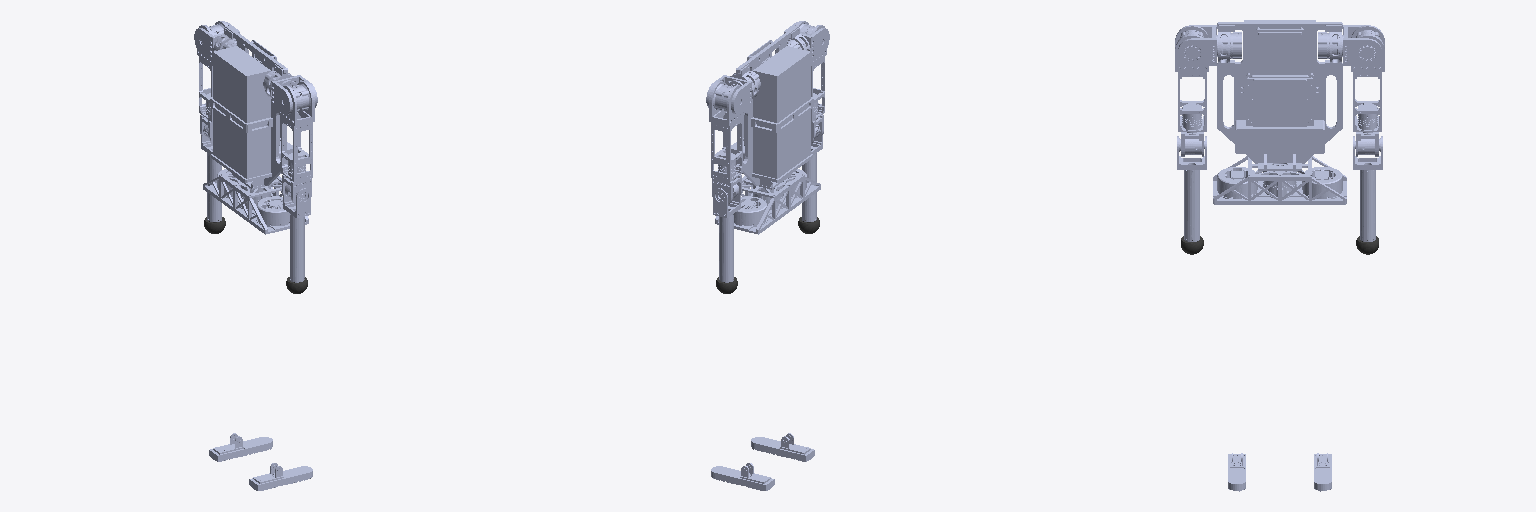
--- Render facts (derived) ---
The picture shows the robot from 3 angles, left to right: view 1: azimuth 30°, elevation 25°; view 2: azimuth 150°, elevation 25°; view 3: azimuth 270°, elevation 25°; orthographic projection.
Model wholebody_4_dof_arm with 22 links and 21 joints (19 revolute, 2 fixed), rooted at Pelvis, posed all joints at 0.
Visible links, largest first — view 1: Torso, Pelvis, R_shoulder_roll, R_elbow, L_toe, R_toe, L_shoulder_roll, L_elbow, R_shoulder_pitch, L_shoulder_pitch; view 2: Torso, Pelvis, L_shoulder_roll, L_elbow, R_toe, L_toe, R_shoulder_roll, R_elbow, L_shoulder_pitch, R_shoulder_pitch; view 3: Torso, Pelvis, L_shoulder_roll, R_shoulder_roll, L_elbow, R_elbow, L_shoulder_pitch, R_shoulder_pitch, L_toe, R_toe, L_shoulder_yaw, R_shoulder_yaw.
Link boxes in pixels (left/top/right/bottom): Torso: left=210, top=26, right=293, bottom=189; Pelvis: left=203, top=169, right=308, bottom=234; R_shoulder_roll: left=279, top=81, right=314, bottom=181; R_elbow: left=283, top=188, right=310, bottom=282; L_toe: left=209, top=433, right=272, bottom=461; R_toe: left=249, top=463, right=312, bottom=490; L_shoulder_roll: left=197, top=21, right=227, bottom=121; L_elbow: left=201, top=135, right=221, bottom=221; R_shoulder_pitch: left=272, top=75, right=317, bottom=114; L_shoulder_pitch: left=194, top=22, right=239, bottom=61; Torso: left=730, top=26, right=813, bottom=189; Pelvis: left=715, top=169, right=820, bottom=234; L_shoulder_roll: left=709, top=81, right=744, bottom=181; L_elbow: left=713, top=188, right=740, bottom=282; R_toe: left=751, top=433, right=814, bottom=461; L_toe: left=711, top=463, right=774, bottom=490; R_shoulder_roll: left=796, top=21, right=826, bottom=121; R_elbow: left=802, top=135, right=822, bottom=221; L_shoulder_pitch: left=706, top=75, right=751, bottom=114; R_shoulder_pitch: left=784, top=22, right=829, bottom=61; Torso: left=1217, top=20, right=1342, bottom=170; Pelvis: left=1213, top=156, right=1346, bottom=204; L_shoulder_roll: left=1351, top=25, right=1384, bottom=131; R_shoulder_roll: left=1175, top=25, right=1208, bottom=131; L_elbow: left=1353, top=136, right=1382, bottom=241; R_elbow: left=1177, top=136, right=1206, bottom=241; L_shoulder_pitch: left=1342, top=25, right=1381, bottom=65; R_shoulder_pitch: left=1178, top=25, right=1217, bottom=65; L_toe: left=1314, top=453, right=1331, bottom=491; R_toe: left=1228, top=453, right=1245, bottom=491; L_shoulder_yaw: left=1355, top=132, right=1378, bottom=156; R_shoulder_yaw: left=1181, top=132, right=1204, bottom=156.
Size in the robot's own frame: 0.2187 by 0.582 by 1.38 metres.
14 mesh visuals loaded from 22 distinct referenced files (14 binary STL); not drawn: 8 (reference not matched to a file when rendering).

robot.urdf — wholebody_4_dof_arm:
<?xml version="1.0" encoding="utf-8"?>
<!-- This URDF was automatically created by SolidWorks to URDF Exporter! Originally created by Stephen Brawner ([email redacted]) 
     Commit Version: 1.6.0-4-g7f85cfe  Build Version: 1.6.7995.38578
     For more information, please see http://wiki.ros.org/sw_urdf_exporter -->
<robot
  name="wholebody_4_dof_arm">
  <link
    name="Pelvis">
    <inertial>
      <origin
        xyz="4.9E-05 6.9E-05 0.031218"
        rpy="0 0 0" />
      <mass
        value="5.326433" />
      <inertia
        ixx="0.052762"
        ixy="3.7E-05"
        ixz="-8E-06"
        iyy="0.010733"
        iyz="-5E-06"
        izz="0.057077" />
    </inertial>
    <visual>
      <origin
        xyz="0 0 0"
        rpy="0 0 0" />
      <geometry>
        <mesh
          filename="meshes/Pelvis.STL" />
      </geometry>
      <material
        name="">
        <color
          rgba="0.792156862745098 0.819607843137255 0.933333333333333 1" />
      </material>
    </visual>
    <!-- <collision>
      <origin
        xyz="0 0 0"
        rpy="0 0 0" />
      <geometry>
        <mesh
          filename="meshes/Pelvis.STL" />
      </geometry>
    </collision> -->
  </link>
  <link
    name="Torso">
    <inertial>
      <origin
        xyz="-0.015965 0 0.229198"
        rpy="0 0 0" />
      <mass
        value="21.311275" />
      <inertia
        ixx="0.411035"
        ixy="0"
        ixz="0.004879"
        iyy="0.320901"
        iyz="-2E-06"
        izz="0.157956" />
    </inertial>
    <visual>
      <origin
        xyz="0 0 0"
        rpy="0 0 0" />
      <geometry>
        <mesh
          filename="meshes/Torso.STL" />
      </geometry>
      <material
        name="">
        <color
          rgba="0.792156862745098 0.819607843137255 0.933333333333333 1" />
      </material>
    </visual>
    <collision>
      <origin
        xyz="0 0 0.22"
        rpy="0 0 0" />
      <geometry>
        <box size="0.17 0.2 0.42" />
      </geometry>
    </collision>
  </link>
  <joint
    name="Waist_joint"
    type="revolute">
    <origin
      xyz="0 0 0.0825"
      rpy="0 0 0" />
    <parent
      link="Pelvis" />
    <child
      link="Torso" />
    <axis
      xyz="0 0 -1" />
    <limit
      lower="-0.87"
      upper="0.87"
      effort="100"
      velocity="13" />
  </joint>
  <link
    name="L_shoulder_pitch">
    <inertial>
      <origin
        xyz="0.002629 0.044079 0"
        rpy="0 0 0" />
      <mass
        value="0.450636" />
      <inertia
        ixx="0.000741"
        ixy="-5.2E-05"
        ixz="0"
        iyy="0.000897"
        iyz="0"
        izz="0.00118" />
    </inertial>
    <visual>
      <origin
        xyz="0 0 0"
        rpy="0 0 0" />
      <geometry>
        <mesh
          filename="meshes/L_shoulder_pitch.STL" />
      </geometry>
      <material
        name="">
        <color
          rgba="0.792156862745098 0.819607843137255 0.933333333333333 1" />
      </material>
    </visual>
    <!-- <collision>
      <origin
        xyz="0 0 0"
        rpy="0 0 0" />
      <geometry>
        <mesh
          filename="meshes/L_shoulder_pitch.STL" />
      </geometry>
    </collision> -->
  </link>
  <joint
    name="L_shoulder_pitch_joint"
    type="revolute">
    <origin
      xyz="0 0.172 0.3695"
      rpy="0 0 0" />
    <parent
      link="Torso" />
    <child
      link="L_shoulder_pitch" />
    <axis
      xyz="0 1 0" />
    <limit
      lower="-3.14"
      upper="1.05"
      effort="55"
      velocity="16" />
  </joint>
  <link
    name="L_shoulder_roll">
    <inertial>
      <origin
        xyz="0.001469 -7E-05 -0.079989"
        rpy="0 0 0" />
      <mass
        value="2.002576" />
      <inertia
        ixx="0.020339"
        ixy="4E-06"
        ixz="-0.000225"
        iyy="0.020072"
        iyz="-4.8E-05"
        izz="0.002315" />
    </inertial>
    <visual>
      <origin
        xyz="0 0 0"
        rpy="0 0 0" />
      <geometry>
        <mesh
          filename="meshes/L_shoulder_roll.STL" />
      </geometry>
      <material
        name="">
        <color
          rgba="0.792156862745098 0.819607843137255 0.933333333333333 1" />
      </material>
    </visual>
    <!-- <collision>
      <origin
        xyz="0 0 0"
        rpy="0 0 0" />
      <geometry>
        <mesh
          filename="meshes/L_shoulder_roll.STL" />
      </geometry>
    </collision> -->
  </link>
  <joint
    name="L_shoulder_roll_joint"
    type="revolute">
    <origin
      xyz="0 0.072 0"
      rpy="0 0 0" />
    <parent
      link="L_shoulder_pitch" />
    <child
      link="L_shoulder_roll" />
    <axis
      xyz="1 0 0" />
    <limit
      lower="-0.087"
      upper="2.62"
      effort="55"
      velocity="16" />
  </joint>
  <link
    name="L_shoulder_yaw">
    <inertial>
      <origin
        xyz="4.8E-05 0.00162 -0.045384"
        rpy="0 0 0" />
      <mass
        value="0.608514" />
      <inertia
        ixx="0.000608"
        ixy="0"
        ixz="0"
        iyy="0.00049"
        iyz="2E-06"
        izz="0.000483" />
    </inertial>
    <visual>
      <origin
        xyz="0 0 0"
        rpy="0 0 0" />
      <geometry>
        <mesh
          filename="meshes/L_shoulder_yaw.STL" />
      </geometry>
      <material
        name="">
        <color
          rgba="0.792156862745098 0.819607843137255 0.933333333333333 1" />
      </material>
    </visual>
    <!-- <collision>
      <origin
        xyz="0 0 0"
        rpy="0 0 0" />
      <geometry>
        <mesh
          filename="meshes/L_shoulder_yaw.STL" />
      </geometry>
    </collision> -->
  </link>
  <joint
    name="L_shoulder_yaw_joint"
    type="revolute">
    <origin
      xyz="0 0 -0.250499999999996"
      rpy="0 0 0" />
    <parent
      link="L_shoulder_roll" />
    <child
      link="L_shoulder_yaw" />
    <axis
      xyz="0 0 -1" />
    <limit
      lower="-1.57"
      upper="1.57"
      effort="30"
      velocity="8.5" />
  </joint>
  <link
    name="L_elbow">
    <inertial>
      <origin
        xyz="0 -5.2E-05 -0.075944"
        rpy="0 0 0" />
      <mass
        value="0.297153" />
      <inertia
        ixx="0.001705"
        ixy="0"
        ixz="0"
        iyy="0.001534"
        iyz="1E-06"
        izz="0.000304" />
    </inertial>
    <visual>
      <origin
        xyz="0 0 0"
        rpy="0 0 0" />
      <geometry>
        <mesh
          filename="meshes/L_elbow.STL" />
      </geometry>
      <material
        name="">
        <color
          rgba="0.792156862745098 0.819607843137255 0.933333333333333 1" />
      </material>
    </visual>
    <collision>
      <origin
        xyz="0 0 -0.14"
        rpy="0 0 0" />
      <geometry>
        <cylinder radius="0.03" length="0.25" />
      </geometry>
    </collision>

    <collision>
      <origin
        xyz="0 0 -0.3"
        rpy="0 0 0" />
      <geometry>
        <sphere radius="0.03" />
      </geometry>
    </collision>

  </link>
  <joint
    name="L_elbow_joint"
    type="revolute">
    <origin
      xyz="0 0 -0.0545"
      rpy="0 0 0" />
    <parent
      link="L_shoulder_yaw" />
    <child
      link="L_elbow" />
    <axis
      xyz="0 1 0" />
    <limit
      lower="-1.9"
      upper="1.05"
      effort="30"
      velocity="8.5" />
  </joint>
  <link
    name="L_EE">
    <inertial>
      <origin
        xyz="0 0 -0.003514"
        rpy="0 0 0" />
      <mass
        value="0.15" />
      <inertia
        ixx="5.5E-05"
        ixy="0"
        ixz="0"
        iyy="5.5E-05"
        iyz="0"
        izz="6.4E-05" />
    </inertial>
    <visual>
      <origin
        xyz="0 0 0"
        rpy="0 0 0" />
      <geometry>
        <mesh
          filename="meshes/L_EE.STL" />
      </geometry>
      <material
        name="">
        <color
          rgba="0.298039215686275 0.298039215686275 0.298039215686275 1" />
      </material>
    </visual>
    <collision>
      <origin
        xyz="0 0 0"
        rpy="0 0 0" />
      <geometry>
        <sphere radius="0.03" />
      </geometry>
    </collision>
  </link>
  <joint
    name="L_EE_joint"
    type="fixed">
    <origin
      xyz="0 0 -0.3"
      rpy="0 0 0" />
    <parent
      link="L_elbow" />
    <child
      link="L_EE" />
    <axis
      xyz="0 0 0" />
    <limit
      lower="-1.57"
      upper="1.57"
      effort="30"
      velocity="8.5" />
  </joint>
  <link
    name="R_shoulder_pitch">
    <inertial>
      <origin
        xyz="0.002629 -0.044079 0"
        rpy="0 0 0" />
      <mass
        value="0.450636" />
      <inertia
        ixx="0.000741"
        ixy="5.2E-05"
        ixz="0"
        iyy="0.000897"
        iyz="0"
        izz="0.00118" />
    </inertial>
    <visual>
      <origin
        xyz="0 0 0"
        rpy="0 0 0" />
      <geometry>
        <mesh
          filename="meshes/R_shoulder_pitch.STL" />
      </geometry>
      <material
        name="">
        <color
          rgba="0.792156862745098 0.819607843137255 0.933333333333333 1" />
      </material>
    </visual>
    <!-- <collision>
      <origin
        xyz="0 0 0"
        rpy="0 0 0" />
      <geometry>
        <mesh
          filename="meshes/R_shoulder_pitch.STL" />
      </geometry>
    </collision> -->
  </link>
  <joint
    name="R_shoulder_pitch_joint"
    type="revolute">
    <origin
      xyz="0 -0.172 0.3695"
      rpy="0 0 0" />
    <parent
      link="Torso" />
    <child
      link="R_shoulder_pitch" />
    <axis
      xyz="0 1 0" />
    <limit
      lower="-3.14"
      upper="1.05"
      effort="55"
      velocity="16" />
  </joint>
  <link
    name="R_shoulder_roll">
    <inertial>
      <origin
        xyz="0.001469 -7E-05 -0.079989"
        rpy="0 0 0" />
      <mass
        value="2.002576" />
      <inertia
        ixx="0.020339"
        ixy="4E-06"
        ixz="-0.000225"
        iyy="0.020072"
        iyz="-4.8E-05"
        izz="0.002315" />
    </inertial>
    <visual>
      <origin
        xyz="0 0 0"
        rpy="0 0 0" />
      <geometry>
        <mesh
          filename="meshes/R_shoulder_roll.STL" />
      </geometry>
      <material
        name="">
        <color
          rgba="0.792156862745098 0.819607843137255 0.933333333333333 1" />
      </material>
    </visual>
    <!-- <collision>
      <origin
        xyz="0 0 0"
        rpy="0 0 0" />
      <geometry>
        <mesh
          filename="meshes/R_shoulder_roll.STL" />
      </geometry>
    </collision> -->
  </link>
  <joint
    name="R_shoulder_roll_joint"
    type="revolute">
    <origin
      xyz="0 -0.072 0"
      rpy="0 0 0" />
    <parent
      link="R_shoulder_pitch" />
    <child
      link="R_shoulder_roll" />
    <axis
      xyz="1 0 0" />
    <limit
      lower="-2.62"
      upper="0.087"
      effort="55"
      velocity="16" />
  </joint>
  <link
    name="R_shoulder_yaw">
    <inertial>
      <origin
        xyz="-4.8E-05 -0.00162 -0.045384"
        rpy="0 0 0" />
      <mass
        value="0.60851" />
      <inertia
        ixx="0.000608"
        ixy="0"
        ixz="0"
        iyy="0.00049"
        iyz="-2E-06"
        izz="0.000483" />
    </inertial>
    <visual>
      <origin
        xyz="0 0 0"
        rpy="0 0 0" />
      <geometry>
        <mesh
          filename="meshes/R_shoulder_yaw.STL" />
      </geometry>
      <material
        name="">
        <color
          rgba="0.792156862745098 0.819607843137255 0.933333333333333 1" />
      </material>
    </visual>
    <!-- <collision>
      <origin
        xyz="0 0 0"
        rpy="0 0 0" />
      <geometry>
        <mesh
          filename="meshes/R_shoulder_yaw.STL" />
      </geometry>
    </collision> --> -->
  </link>
  <joint
    name="R_shoulder_yaw_joint"
    type="revolute">
    <origin
      xyz="0 0 -0.2505"
      rpy="0 0 0" />
    <parent
      link="R_shoulder_roll" />
    <child
      link="R_shoulder_yaw" />
    <axis
      xyz="0 0 -1" />
    <limit
      lower="-1.57"
      upper="1.57"
      effort="30"
      velocity="8.5" />
  </joint>
  <link
    name="R_elbow">
    <inertial>
      <origin
        xyz="0 5.2E-05 -0.075944"
        rpy="0 0 0" />
      <mass
        value="0.297153" />
      <inertia
        ixx="0.075944"
        ixy="0"
        ixz="0"
        iyy="0.001534"
        iyz="-1E-06"
        izz="0.000304" />
    </inertial>
    <visual>
      <origin
        xyz="0 0 0"
        rpy="0 0 0" />
      <geometry>
        <mesh
          filename="meshes/R_elbow.STL" />
      </geometry>
      <material
        name="">
        <color
          rgba="0.792156862745098 0.819607843137255 0.933333333333333 1" />
      </material>
    </visual>
    <collision>
      <origin
        xyz="0 0 -0.14"
        rpy="0 0 0" />
      <geometry>
        <cylinder radius="0.03" length="0.25" />
      </geometry>
    </collision>

    <collision>
      <origin
        xyz="0 0 -0.3"
        rpy="0 0 0" />
      <geometry>
        <sphere radius="0.03" />
      </geometry>
    </collision>
  </link>
  <joint
    name="R_elbow_joint"
    type="revolute">
    <origin
      xyz="0 0 -0.0545"
      rpy="0 0 0" />
    <parent
      link="R_shoulder_yaw" />
    <child
      link="R_elbow" />
    <axis
      xyz="0 1 0" />
    <limit
      lower="-1.9"
      upper="1.05"
      effort="30"
      velocity="8.5" />
  </joint>
  <link
    name="R_EE">
    <inertial>
      <origin
        xyz="0 0 -0.003514"
        rpy="0 0 0" />
      <mass
        value="0.15" />
      <inertia
        ixx="5.5E-05"
        ixy="0"
        ixz="0"
        iyy="5.5E-05"
        iyz="0"
        izz="6.4E-05" />
    </inertial>
    <visual>
      <origin
        xyz="0 0 0"
        rpy="0 0 0" />
      <geometry>
        <mesh
          filename="meshes/R_EE.STL" />
      </geometry>
      <material
        name="">
        <color
          rgba="0.298039215686275 0.298039215686275 0.298039215686275 1" />
      </material>
    </visual>
    <collision>
      <origin
        xyz="0 0 0"
        rpy="0 0 0" />
      <geometry>
        <sphere radius="0.03" />
      </geometry>
    </collision>
  </link>
  <joint
    name="R_EE_joint"
    type="fixed">
    <origin
      xyz="0 0 -0.3"
      rpy="0 0 0" />
    <parent
      link="R_elbow" />
    <child
      link="R_EE" />
    <axis
      xyz="0 0 0" />
    <limit
      lower="-1.57"
      upper="1.57"
      effort="30"
      velocity="8.5" />
  </joint>
  <link
    name="L_hip">
    <inertial>
      <origin
        xyz="-0.061518 0.00077 -0.068558"
        rpy="0 0 0" />
      <mass
        value="1.526184" />
      <inertia
        ixx="0.004624"
        ixy="-1.1E-05"
        ixz="-0.001652"
        iyy="0.005293"
        iyz="-6E-06"
        izz="0.003353" />
    </inertial>
    <visual>
      <origin
        xyz="0 0 0"
        rpy="0 0 0" />
      <geometry>
        <mesh
          filename="meshes/L_hip.STL" />
      </geometry>
      <material
        name="">
        <color
          rgba="0.792156862745098 0.819607843137255 0.933333333333333 1" />
      </material>
    </visual>
    <!-- <collision>
      <origin
        xyz="0 0 0"
        rpy="0 0 0" />
      <geometry>
        <mesh
          filename="meshes/L_hip.STL" />
      </geometry>
    </collision> -->
  </link>
  <joint
    name="L_hip_joint"
    type="revolute">
    <origin
      xyz="-0.0027834 0.11747 0.0058"
      rpy="0 0 0" />
    <parent
      link="Pelvis" />
    <child
      link="L_hip" />
    <axis
      xyz="0 0 1" />
    <limit
      lower="-0.79"
      upper="0.61"
      effort="300"
      velocity="50" />
  </joint>
  <link
    name="L_hip2">
    <inertial>
      <origin
        xyz="0.07744 -0.057013 -0.015123"
        rpy="0 0 0" />
      <mass
        value="1.333254" />
      <inertia
        ixx="0.002186"
        ixy="0.000631"
        ixz="0.00026"
        iyy="0.003313"
        iyz="-0.000174"
        izz="0.002911" />
    </inertial>
    <visual>
      <origin
        xyz="0 0 0"
        rpy="0 0 0" />
      <geometry>
        <mesh
          filename="meshes/L_hip2.STL" />
      </geometry>
      <material
        name="">
        <color
          rgba="0.792156862745098 0.819607843137255 0.933333333333333 1" />
      </material>
    </visual>
    <!-- <collision>
      <origin
        xyz="0 0 0"
        rpy="0 0 0" />
      <geometry>
        <mesh
          filename="meshes/L_hip2.STL" />
      </geometry>
    </collision> -->
  </link>
  <joint
    name="L_hip2_joint"
    type="revolute">
    <origin
      xyz="-0.0732999999999999 0 -0.0965000000000001"
      rpy="0 0 0" />
    <parent
      link="L_hip" />
    <child
      link="L_hip2" />
    <axis
      xyz="-1 0 0" />
    <limit
      lower="-0.7"
      upper="0.52"
      effort="300"
      velocity="50" />
  </joint>
  <link
    name="L_thigh">
    <inertial>
      <origin
        xyz="0.014608 0.051057 -0.086535"
        rpy="0 0 0" />
      <mass
        value="4.91" />
      <inertia
        ixx="0.078865"
        ixy="0"
        ixz="9E-06"
        iyy="0.079352"
        iyz="-0.00221"
        izz="0.009803" />
    </inertial>
    <visual>
      <origin
        xyz="0 0 0"
        rpy="0 0 0" />
      <geometry>
        <mesh
          filename="meshes/L_thigh.STL" />
      </geometry>
      <material
        name="">
        <color
          rgba="0.792156862745098 0.819607843137255 0.933333333333333 1" />
      </material>
    </visual>
    <collision>
      <origin
        xyz="0 0.051057 -0.2"
        rpy="0 0 0" />
      <geometry>
        <cylinder radius="0.03" length="0.27" />
      </geometry>
    </collision>
  </link>
  <joint
    name="L_thigh_joint"
    type="revolute">
    <origin
      xyz="0.075 -0.0443 -0.0185"
      rpy="0 0 0" />
    <parent
      link="L_hip2" />
    <child
      link="L_thigh" />
    <axis
      xyz="0 1 0" />
    <limit
      lower="-2.44"
      upper="0.35"
      effort="300"
      velocity="50" />
  </joint>
  <link
    name="L_calf">
    <inertial>
      <origin
        xyz="-0.067056 0.001626 -0.133373"
        rpy="0 0 0" />
      <mass
        value="1.5" />
      <inertia
        ixx="0.014686"
        ixy="0"
        ixz="-3E-06"
        iyy="0.014996"
        iyz="9E-06"
        izz="0.001006" />
    </inertial>
    <visual>
      <origin
        xyz="0 0 0"
        rpy="0 0 0" />
      <geometry>
        <mesh
          filename="meshes/L_calf.STL" />
      </geometry>
      <material
        name="">
        <color
          rgba="0.792156862745098 0.819607843137255 0.933333333333333 1" />
      </material>
    </visual>
    <collision>
      <origin
        xyz="0 0 -0.2"
        rpy="0 0 0" />
      <geometry>
        <cylinder radius="0.03" length="0.27" />
      </geometry>
    </collision>
  </link>
  <joint
    name="L_calf_joint"
    type="revolute">
    <origin
      xyz="0.00278336726058792 0.0459990333361975 -0.35"
      rpy="0 0 0" />
    <parent
      link="L_thigh" />
    <child
      link="L_calf" />
    <axis
      xyz="0 -1 0" />
    <limit
      lower="-2.09"
      upper="2.09"
      effort="300"
      velocity="50" />
  </joint>
  <link
    name="L_toe">
    <inertial>
      <origin
        xyz="0.093971 0.000929 -0.077352"
        rpy="0 0 0" />
      <mass
        value="0.520141" />
      <inertia
        ixx="0.000142"
        ixy="1E-06"
        ixz="2.6E-05"
        iyy="0.001621"
        iyz="0"
        izz="0.001685" />
    </inertial>
    <visual>
      <origin
        xyz="0 0 0"
        rpy="0 0 0" />
      <geometry>
        <mesh
          filename="meshes/L_toe.STL" />
      </geometry>
      <material
        name="">
        <color
          rgba="0.792156862745098 0.819607843137255 0.933333333333333 1" />
      </material>
    </visual>
    <collision>
      <origin
        xyz="0.02 0 -0.035"
        rpy="0 0 0" />
      <geometry>
        <box size="0.2 0.05 0.03" />
      </geometry>
    </collision>
  </link>
  <joint
    name="L_toe_joint"
    type="revolute">
    <origin
      xyz="0 0 -0.35"
      rpy="0 0 0" />
    <parent
      link="L_calf" />
    <child
      link="L_toe" />
    <axis
      xyz="0 -1 0" />
    <limit
      lower="-0.7854"
      upper="0.7854"
      effort="100"
      velocity="50" />
  </joint>
  <link
    name="R_hip">
    <inertial>
      <origin
        xyz="0 0 0"
        rpy="0 0 0" />
      <mass
        value="0" />
      <inertia
        ixx="0"
        ixy="0"
        ixz="0"
        iyy="0"
        iyz="0"
        izz="0" />
    </inertial>
    <visual>
      <origin
        xyz="0 0 0"
        rpy="0 0 0" />
      <geometry>
        <mesh
          filename="meshes/R_hip.STL" />
      </geometry>
      <material
        name="">
        <color
          rgba="0.792156862745098 0.819607843137255 0.933333333333333 1" />
      </material>
    </visual>
    <!-- <collision>
      <origin
        xyz="0 0 0"
        rpy="0 0 0" />
      <geometry>
        <mesh
          filename="meshes/R_hip.STL" />
      </geometry>
    </collision> -->
  </link>
  <joint
    name="R_hip_joint"
    type="revolute">
    <origin
      xyz="0.00278336726058946 -0.117467028849345 0.00580000000000047"
      rpy="0 0 0" />
    <parent
      link="Pelvis" />
    <child
      link="R_hip" />
    <axis
      xyz="0 0 1" />
    <limit
      lower="-0.61"
      upper="0.79"
      effort="300"
      velocity="50" />
  </joint>
  <link
    name="R_hip2">
    <inertial>
      <origin
        xyz="0.048184 0.057013 -0.015123"
        rpy="0 0 0" />
      <mass
        value="1.333254" />
      <inertia
        ixx="0.002186"
        ixy="-0.000631"
        ixz="0.00026"
        iyy="0.003313"
        iyz="0.000174"
        izz="0.002911" />
    </inertial>
    <visual>
      <origin
        xyz="0 0 0"
        rpy="0 0 0" />
      <geometry>
        <mesh
          filename="meshes/R_hip2.STL" />
      </geometry>
      <material
        name="">
        <color
          rgba="0.792156862745098 0.819607843137255 0.933333333333333 1" />
      </material>
    </visual>
    <!-- <collision>
      <origin
        xyz="0 0 0"
        rpy="0 0 0" />
      <geometry>
        <mesh
          filename="meshes/R_hip2.STL" />
      </geometry>
    </collision> -->
  </link>
  <joint
    name="R_hip2_joint"
    type="revolute">
    <origin
      xyz="-0.0732999999999998 0 -0.0965000000000001"
      rpy="0 0 0" />
    <parent
      link="R_hip" />
    <child
      link="R_hip2" />
    <axis
      xyz="-1 0 0" />
    <limit
      lower="-0.52"
      upper="0.7"
      effort="300"
      velocity="50" />
  </joint>
  <link
    name="R_thigh">
    <inertial>
      <origin
        xyz="-0.014608 -0.051057 -0.086535"
        rpy="0 0 0" />
      <mass
        value="4.91" />
      <inertia
        ixx="0.078865"
        ixy="0"
        ixz="-9E-06"
        iyy="0.079352"
        iyz="0.00221"
        izz="0.009803" />
    </inertial>
    <visual>
      <origin
        xyz="0 0 0"
        rpy="0 0 0" />
      <geometry>
        <mesh
          filename="meshes/R_thigh.STL" />
      </geometry>
      <material
        name="">
        <color
          rgba="0.792156862745098 0.819607843137255 0.933333333333333 1" />
      </material>
    </visual>
    <collision>
      <origin
        xyz="0 -0.051057 -0.2"
        rpy="0 0 0" />
      <geometry>
        <cylinder radius="0.03" length="0.27" />
      </geometry>
    </collision>
  </link>
  <joint
    name="R_thigh_joint"
    type="revolute">
    <origin
      xyz="0.075 0.0443 -0.0185000000000003"
      rpy="0 0 0" />
    <parent
      link="R_hip2" />
    <child
      link="R_thigh" />
    <axis
      xyz="0 1 0" />
    <limit
      lower="-2.44"
      upper="0.35"
      effort="300"
      velocity="50" />
  </joint>
  <link
    name="R_calf">
    <inertial>
      <origin
        xyz="-0.014664 -0.001626 -0.123699"
        rpy="0 0 0" />
      <mass
        value="1.5" />
      <inertia
        ixx="0.014686"
        ixy="0"
        ixz="3E-06"
        iyy="0.014996"
        iyz="-9E-06"
        izz="0.001006" />
    </inertial>
    <visual>
      <origin
        xyz="0 0 0"
        rpy="0 0 0" />
      <geometry>
        <mesh
          filename="meshes/R_calf.STL" />
      </geometry>
      <material
        name="">
        <color
          rgba="0.792156862745098 0.819607843137255 0.933333333333333 1" />
      </material>
    </visual>
    <collision>
      <origin
        xyz="0 0 -0.2"
        rpy="0 0 0" />
      <geometry>
        <cylinder radius="0.03" length="0.27" />
      </geometry>
    </collision>
  </link>
  <joint
    name="R_calf_joint"
    type="revolute">
    <origin
      xyz="-0.00278336726058956 -0.0459990333361975 -0.35"
      rpy="0 0 0" />
    <parent
      link="R_thigh" />
    <child
      link="R_calf" />
    <axis
      xyz="0 -1 0" />
    <limit
      lower="-2.09"
      upper="2.09"
      effort="300"
      velocity="50" />
  </joint>
  <link
    name="R_toe">
    <inertial>
      <origin
        xyz="5.2E-05 -0.0009 -0.035597"
        rpy="0 0 0" />
      <mass
        value="0.520141" />
      <inertia
        ixx="0.000142"
        ixy="1E-06"
        ixz="2.6E-05"
        iyy="0.001621"
        iyz="0"
        izz="0.001685" />
    </inertial>
    <visual>
      <origin
        xyz="0 0 0"
        rpy="0 0 0" />
      <geometry>
        <mesh
          filename="meshes/R_toe.STL" />
      </geometry>
      <material
        name="">
        <color
          rgba="0.792156862745098 0.819607843137255 0.933333333333333 1" />
      </material>
    </visual>
    <collision>
      <origin
        xyz="0.02 0 -0.035"
        rpy="0 0 0" />
      <geometry>
        <box size="0.2 0.05 0.03" />
      </geometry>
    </collision>
  </link>
  <joint
    name="R_toe_joint"
    type="revolute">
    <origin
      xyz="0 0 -0.35"
      rpy="0 0 0" />
    <parent
      link="R_calf" />
    <child
      link="R_toe" />
    <axis
      xyz="0 -1 0" />
    <limit
      lower="-0.7854"
      upper="0.7854"
      effort="100"
      velocity="50" />
  </joint>
</robot>
